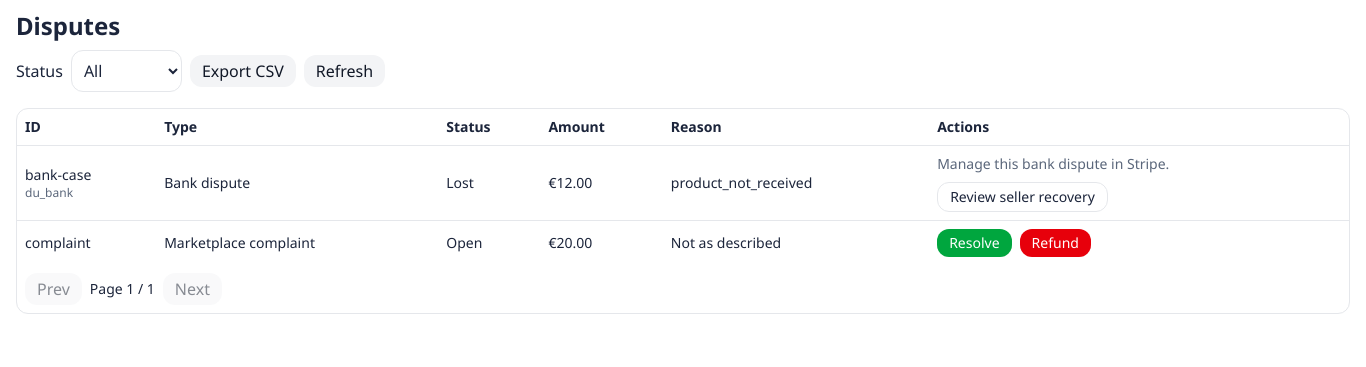
Scenario: admin bank disputes and marketplace complaints › reports a pending refund without claiming settlement
What coordinates should you click on to do the following:
click the button "Refund"
I would click on:
 (1055, 243)
Its box is [1020,229,1091,257].
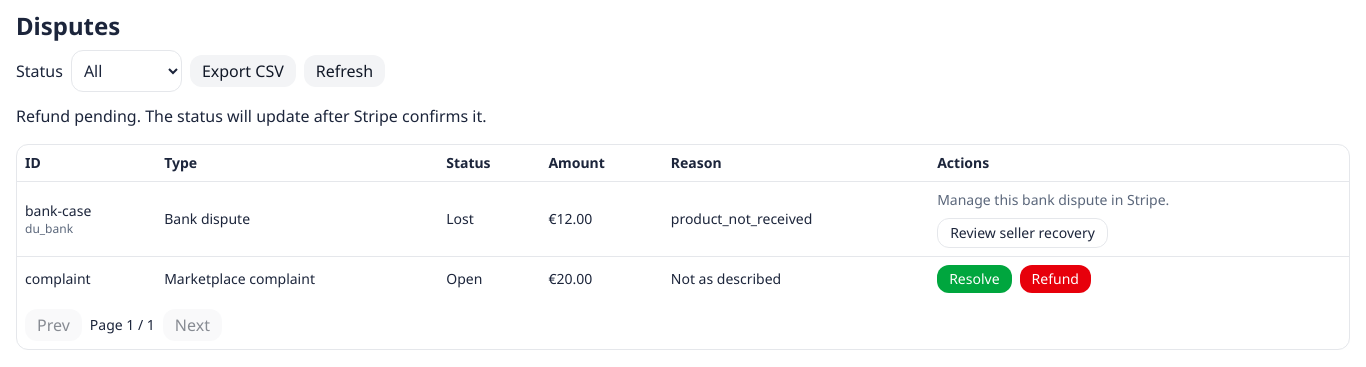
Expected: the message reads "Refund pending. The status will update after Stripe confirms it.", [16,105,486,127]
